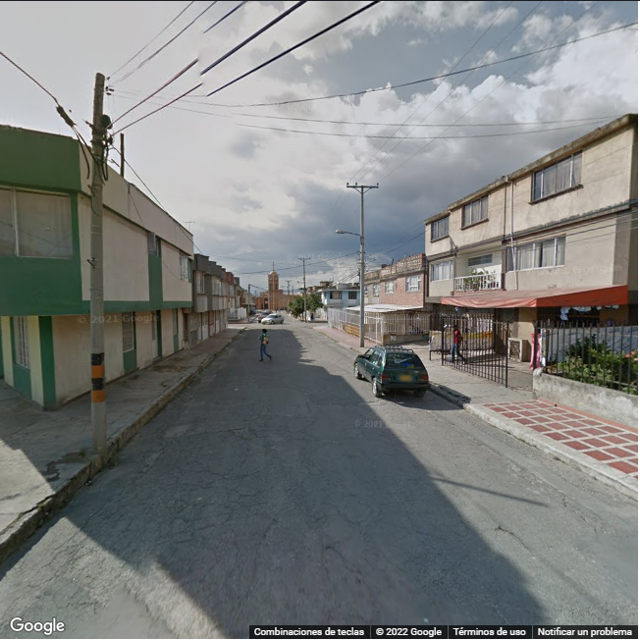D00: (391, 482, 420, 530), (495, 518, 526, 552)
D20: (32, 465, 262, 591)
